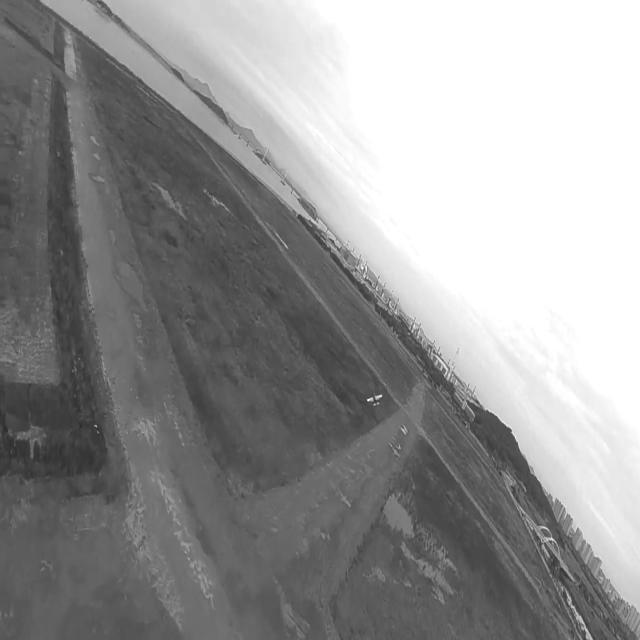iha: (358, 384, 396, 420)
